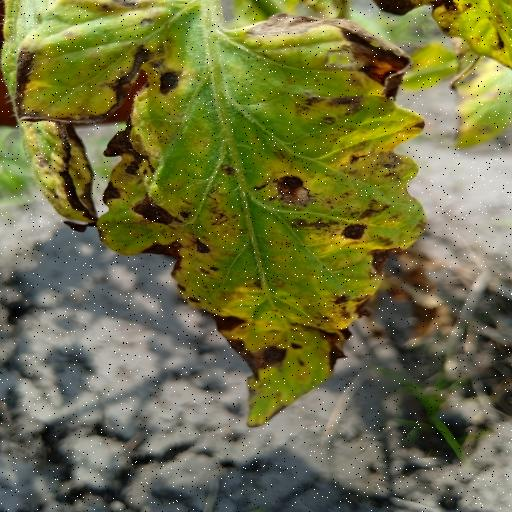Tomato_Brown_Spots: (12, 0, 430, 434)
